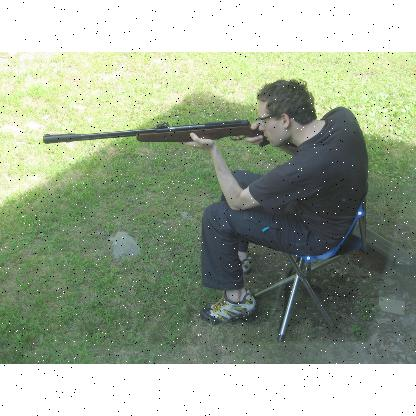gun: (43, 119, 270, 146)
